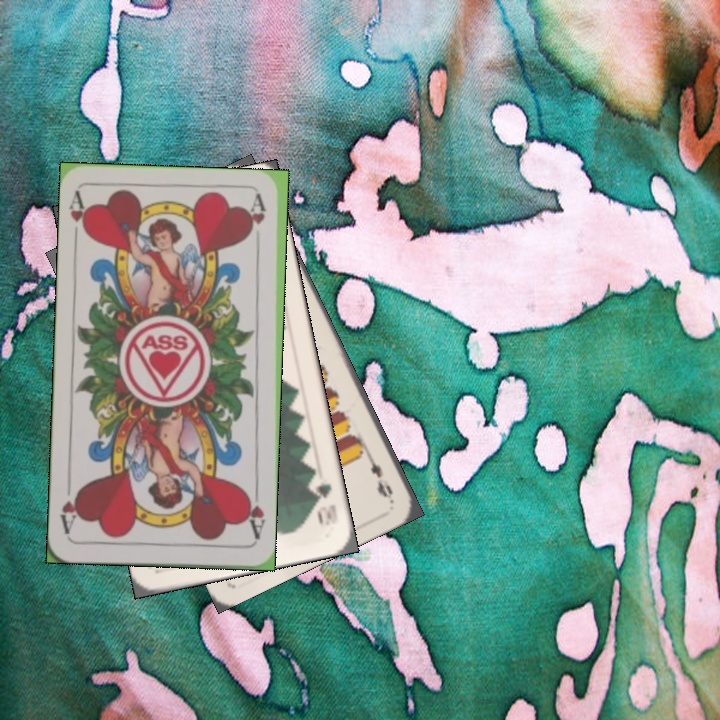E9: (357, 447, 396, 501)
G10: (309, 479, 340, 528)
HA: (66, 188, 93, 247), (241, 484, 268, 542)
